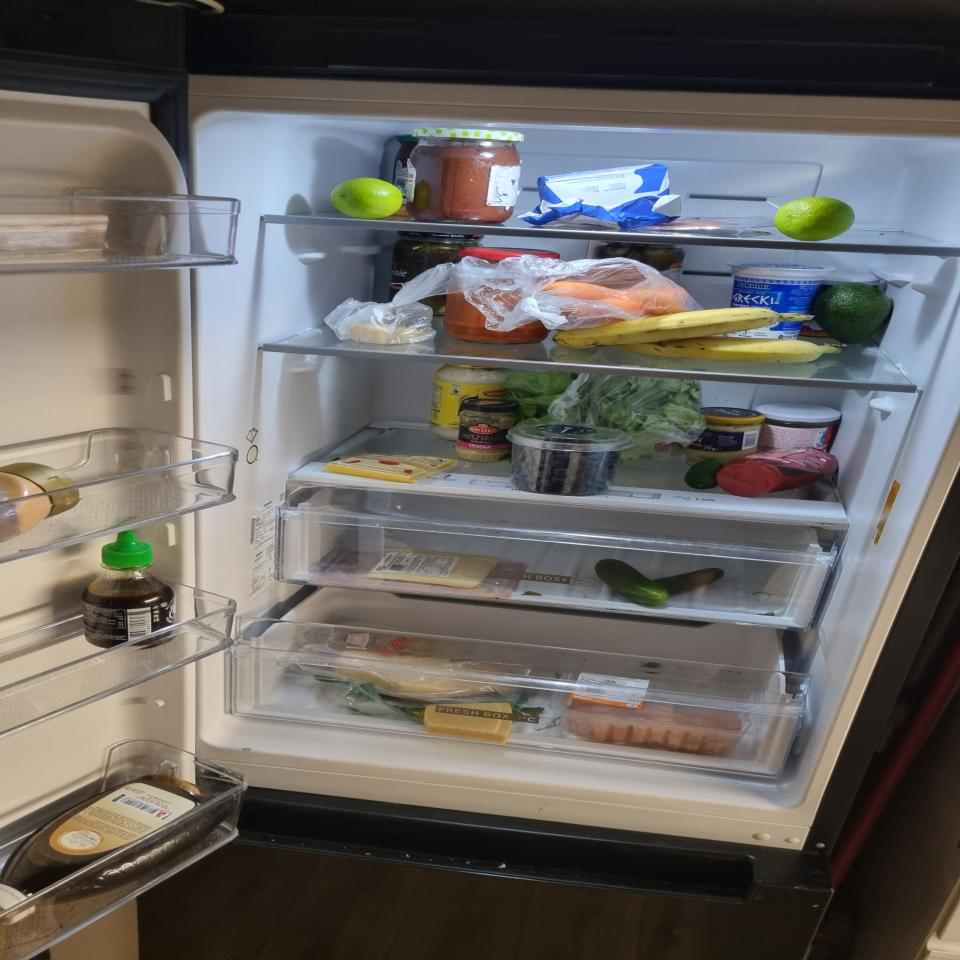Aguacate: (815, 282, 893, 346)
Carne pollo: (565, 672, 744, 754)
Lechuga/Endivia: (502, 369, 704, 463)
Mantequilla: (518, 164, 682, 232)
Pepino: (594, 559, 725, 606), (685, 460, 723, 489)
Plátano: (553, 308, 847, 363)
Queso: (333, 649, 521, 699), (367, 549, 501, 588), (325, 450, 459, 484), (423, 703, 513, 745), (347, 323, 432, 345)
Yogur: (724, 262, 836, 340)
Zanahoria: (540, 281, 687, 320)
